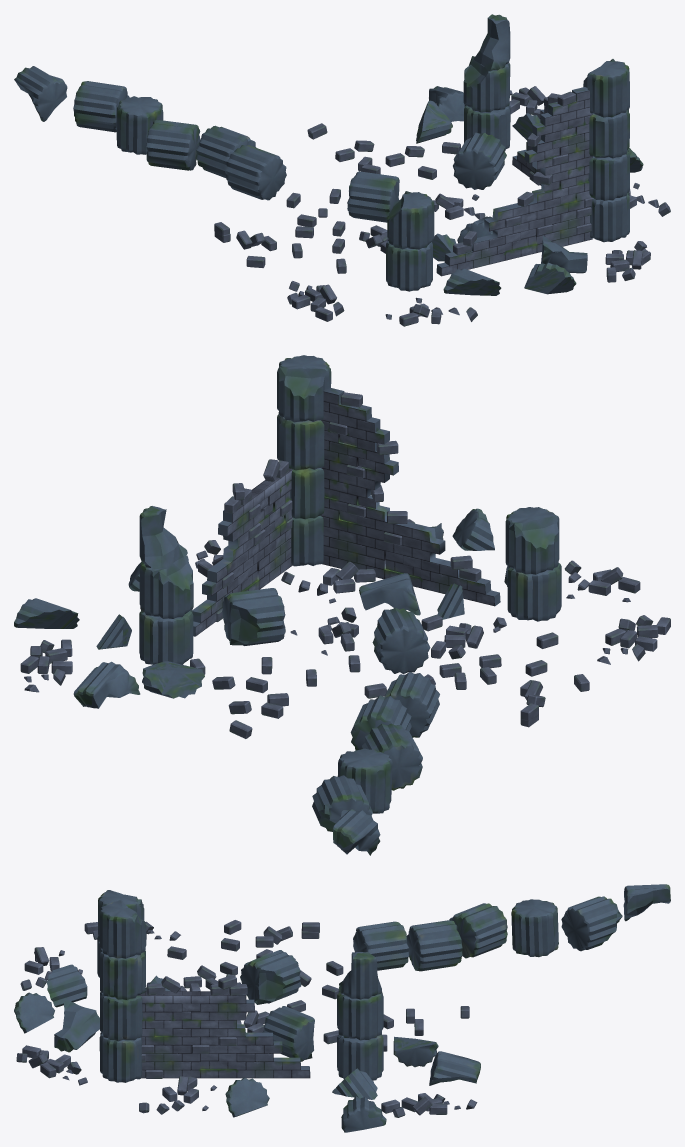
Rendered from wall_corner_3.obj.
3 renders of one model, top to bottom at view 1: azimuth 30°, elevation 25°; view 2: azimuth 150°, elevation 25°; view 3: azimuth 270°, elevation 25°, orthographic. The views are drawn at different scales.
Parts seen in each view (by area): view 1: Pillar3_Material.001_0, Bricks3_Estructura1_0, Walls3_Estructura1_0; view 2: Pillar3_Material.001_0, Walls3_Estructura1_0, Bricks3_Estructura1_0; view 3: Pillar3_Material.001_0, Bricks3_Estructura1_0, Walls3_Estructura1_0.
Boxes of the visible parts, box(x1,y1,x2,y2) form: Pillar3_Material.001_0: box(14, 14, 643, 295); Bricks3_Estructura1_0: box(214, 86, 670, 326); Walls3_Estructura1_0: box(436, 87, 592, 276); Pillar3_Material.001_0: box(14, 355, 561, 855); Walls3_Estructura1_0: box(192, 387, 500, 636); Bricks3_Estructura1_0: box(20, 392, 670, 738); Pillar3_Material.001_0: box(14, 884, 670, 1132); Bricks3_Estructura1_0: box(16, 920, 477, 1117); Walls3_Estructura1_0: box(127, 906, 310, 1078).
Size of the model in its own units: 5.55 by 2.08 by 7.2.
